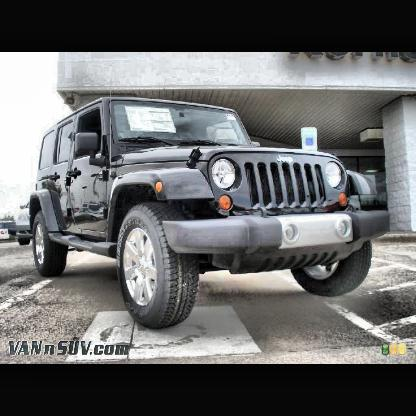Jeep Wrangler SUV 2012: (25, 92, 393, 332)
